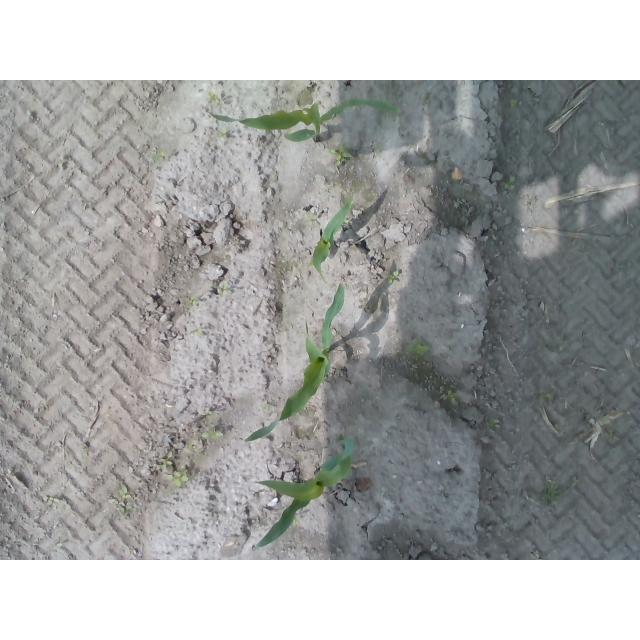Maize: (243, 285, 346, 442), (250, 436, 357, 551), (203, 98, 404, 144), (312, 199, 352, 285)
Weeds: (110, 484, 133, 514), (328, 148, 352, 165), (165, 471, 190, 487), (407, 341, 430, 356), (201, 430, 223, 439), (158, 457, 172, 471), (208, 91, 221, 105), (504, 175, 516, 190), (151, 150, 165, 161), (488, 419, 501, 429), (387, 271, 397, 283), (445, 392, 456, 401), (510, 100, 519, 109), (188, 296, 196, 305)
